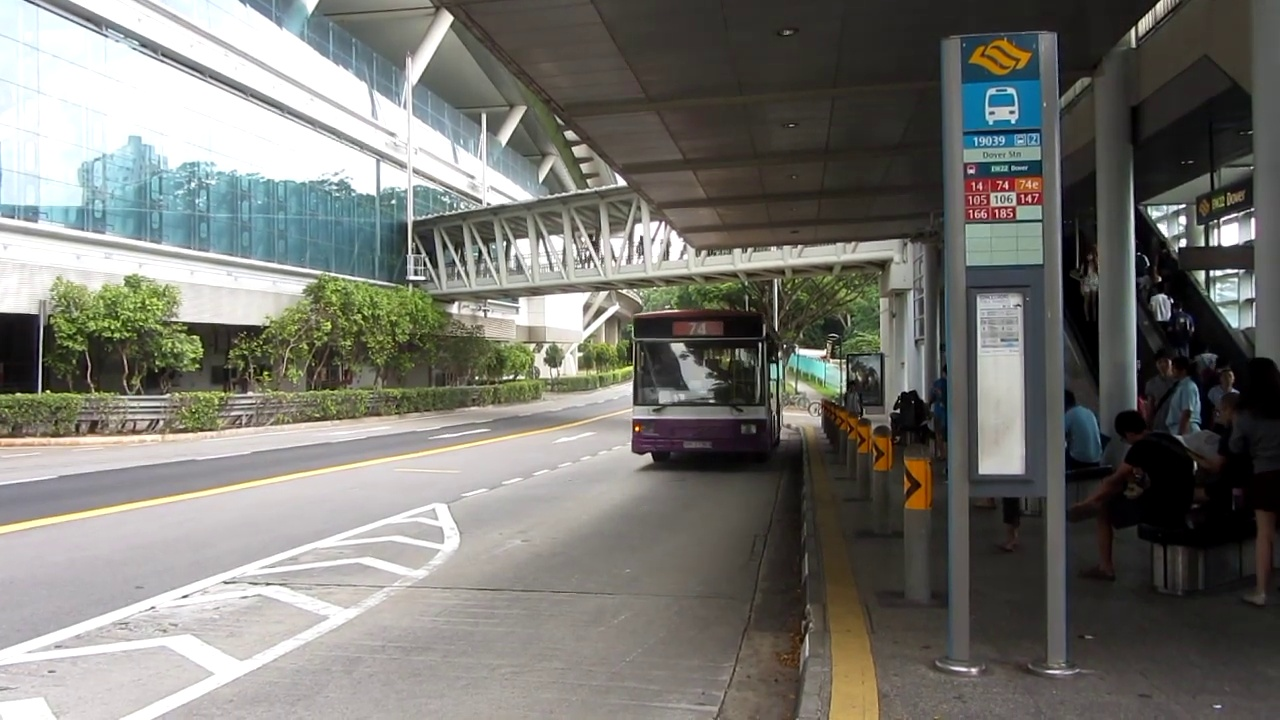bus panel: (671, 320, 725, 337)
